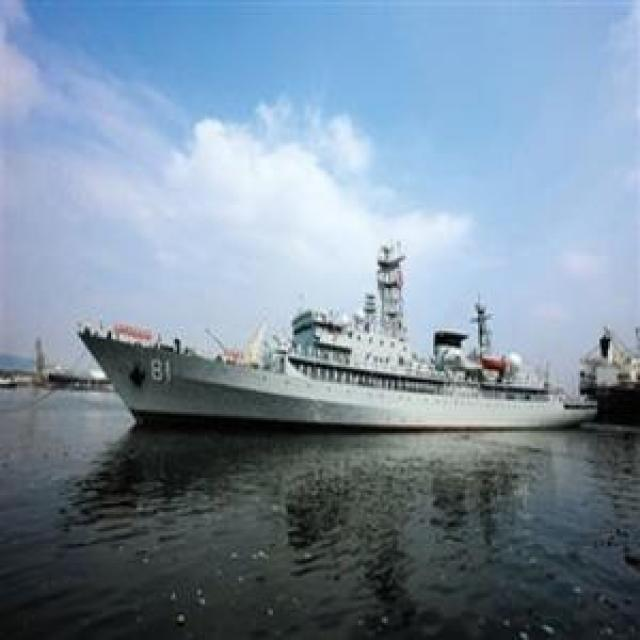navalvessels: (73, 230, 598, 434)
